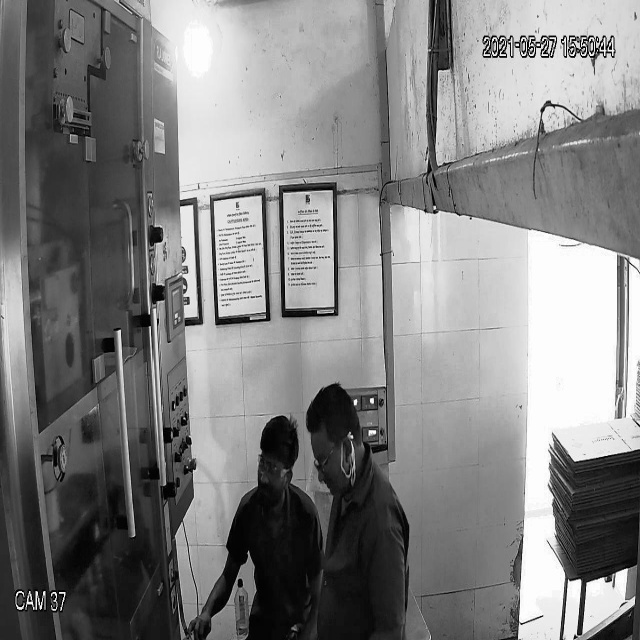Gafas: (255, 450, 294, 482)
